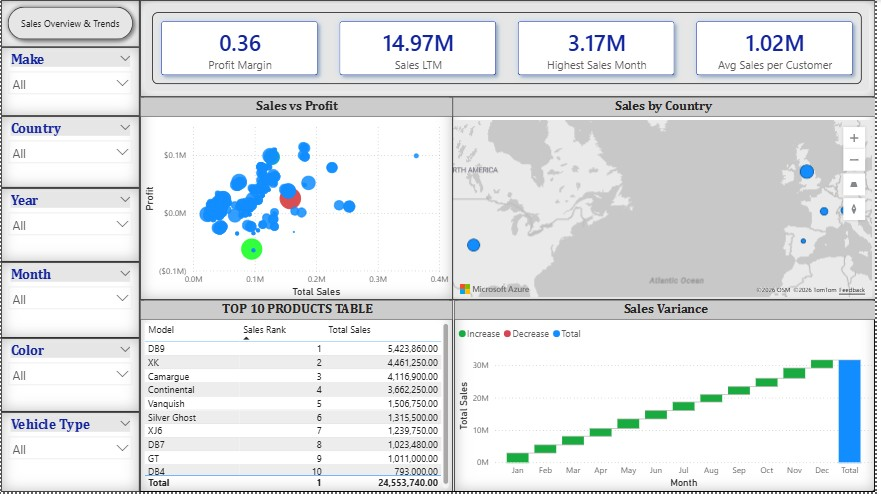

Layout of this report page (visuals, bound fields, positions):
{"tool":"powerbi","page":{"name":"Regional & Profit Analysis","canvas":[1280,720],"ordinal":1},"visuals":[{"type":"cardVisual","fields":{"Data":["All Automobile.Profit Margin","All Automobile.Sales LTM","All Automobile.Highest Sales Month","All Automobile.Avg Sales per Customer"]},"box":[203.4,0,1075.6,142],"z":0},{"type":"azureMap","title":"Sales by Country","fields":{"Category":["All Automobile.CountryName"],"Size":["All Automobile.Total Sales"]},"box":[655.6,142,624.9,297.1],"z":1000},{"type":"waterfallChart","title":"Sales Variance","fields":{"Category":["DateTable.Month"],"Y":["All Automobile.Total Sales"]},"box":[662.9,439,617.6,281],"z":2000},{"type":"scatterChart","title":"Sales vs Profit","fields":{"Y":["All Automobile.Profit"],"X":["All Automobile.Total Sales"],"Size":["Sum(All Automobile.TotalDiscount)"]},"box":[203.4,142,458,297.1],"z":3000},{"type":"tableEx","title":"TOP 10 PRODUCTS TABLE","fields":{"Values":["All Automobile.Model","All Automobile.Sales Rank","All Automobile.Total Sales"]},"box":[203.4,439,458,281],"z":4000},{"type":"slicer","fields":{"Values":["All Automobile.Make"]},"box":[0,68.8,203.4,101],"z":5000},{"type":"slicer","fields":{"Values":["All Automobile.CountryName"]},"box":[0,169.8,203.4,105.4],"z":6000},{"type":"slicer","fields":{"Values":["DateTable.Year"]},"box":[0,275.1,203.4,108.3],"z":7000},{"type":"slicer","fields":{"Values":["DateTable.Month"]},"box":[0,383.4,203.4,111.2],"z":8000},{"type":"slicer","fields":{"Values":["All Automobile.VehicleType"]},"box":[0,602.9,203.4,117.1],"z":9000},{"type":"pageNavigator","box":[0,0,203.4,68.8],"z":10000},{"type":"slicer","fields":{"Values":["All Automobile.Color"]},"box":[0,494.6,203.4,108.3],"z":11000}]}

Visuals, with their boxes in screenshot pixels (x1, y1, x2, y2), scaled from the page's 1280x720 canvas onto the 881x497 screenshot:
cardVisual - All Automobile.Profit Margin x All Automobile.Sales LTM: Rect(140, 0, 880, 98)
"Sales by Country" azureMap: Rect(451, 98, 880, 303)
"Sales Variance" waterfallChart: Rect(456, 303, 880, 496)
"Sales vs Profit" scatterChart: Rect(140, 98, 455, 303)
"TOP 10 PRODUCTS TABLE" tableEx: Rect(140, 303, 455, 496)
slicer - All Automobile.Make: Rect(0, 47, 140, 117)
slicer - All Automobile.CountryName: Rect(0, 117, 140, 190)
slicer - DateTable.Year: Rect(0, 190, 140, 265)
slicer - DateTable.Month: Rect(0, 265, 140, 341)
slicer - All Automobile.VehicleType: Rect(0, 416, 140, 496)
pageNavigator: Rect(0, 0, 140, 47)
slicer - All Automobile.Color: Rect(0, 341, 140, 416)
